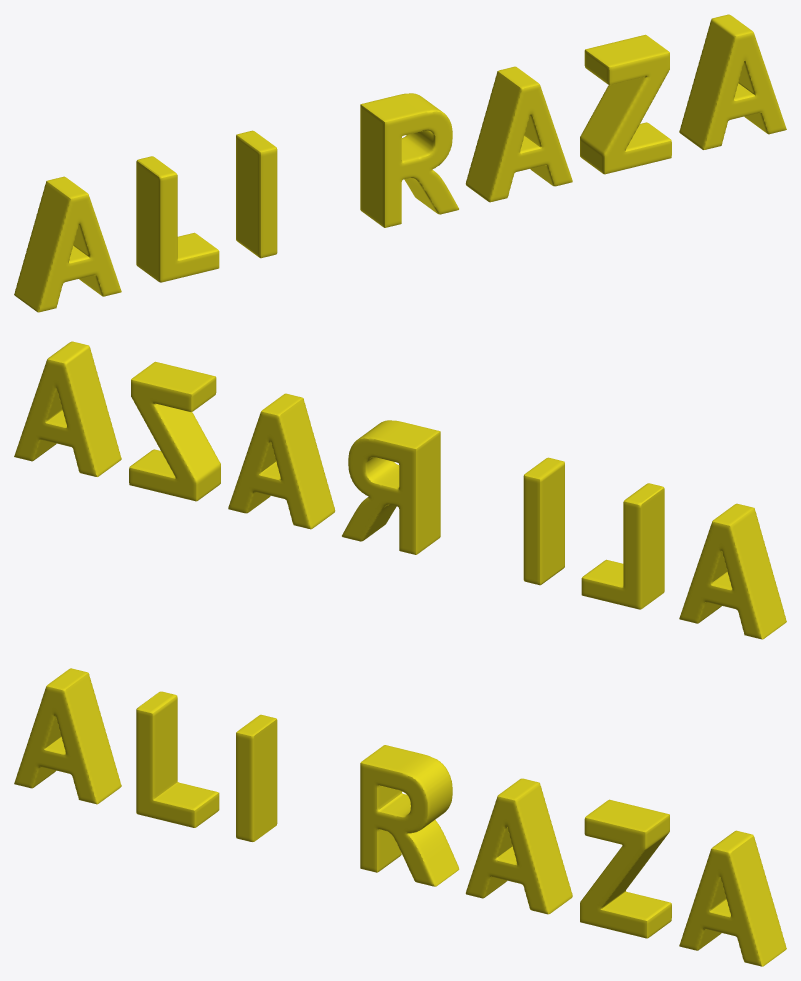
File: title.glb
3 renders of one model, top to bottom at view 1: azimuth 30°, elevation 25°; view 2: azimuth 150°, elevation 25°; view 3: azimuth 330°, elevation 25°, orthographic.
Parts seen in each view (by area): view 1: R, Z, A.3, A.1, A.2, L, I; view 2: R, Z, A.3, A.1, A.2, L, I; view 3: R, A.2, A.1, A.3, Z, L, I.
Boxes of the visible parts, x1,y1,x2,y2 form: R: (360,93,458,227); Z: (580,34,671,174); A.3: (14,176,121,312); A.1: (465,66,572,202); A.2: (679,14,786,149); L: (136,156,219,282); I: (236,130,277,258); R: (342,420,440,554); Z: (129,361,220,501); A.3: (679,503,786,639); A.1: (228,393,335,529); A.2: (14,341,121,476); L: (581,483,664,609); I: (523,457,564,585); R: (360,745,459,886); A.2: (679,830,786,966); A.1: (465,778,572,914); A.3: (14,668,121,804); Z: (580,799,671,938); L: (136,691,219,827); I: (236,714,277,841).
Size of the model in its own units: 11.27 by 1.54 by 0.66.
